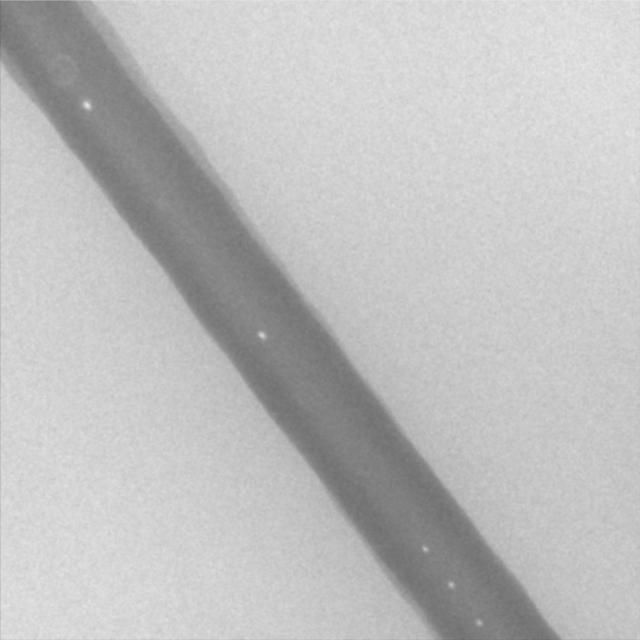air hole: (82, 99, 93, 111), (445, 579, 455, 591), (420, 542, 430, 554), (256, 329, 266, 341), (474, 618, 482, 628)
hollow bead: (45, 53, 80, 90)
